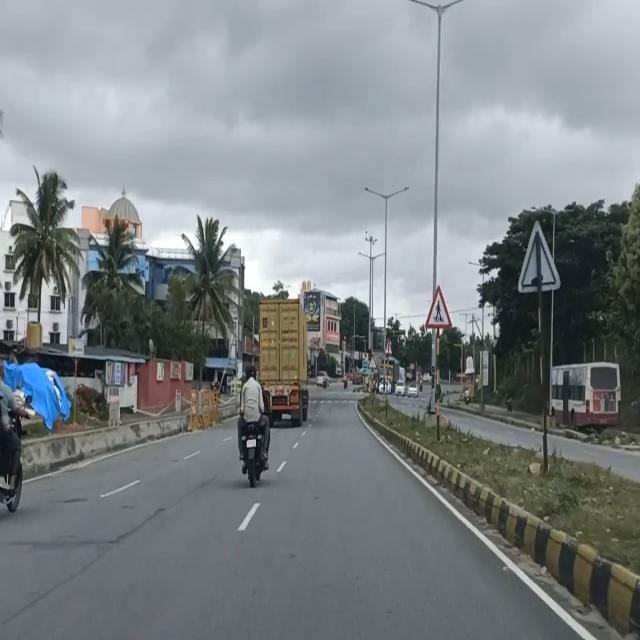bien_cam: (424, 284, 453, 329), (384, 341, 393, 356)
